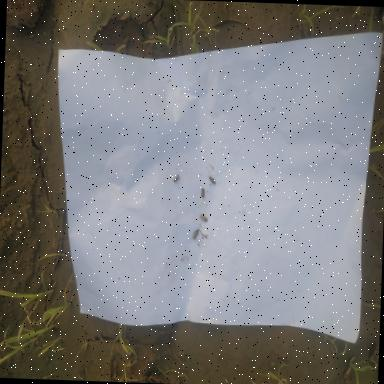pbw: (172, 174, 180, 183), (199, 214, 207, 222), (208, 176, 216, 184), (192, 230, 198, 240), (200, 188, 205, 198)
